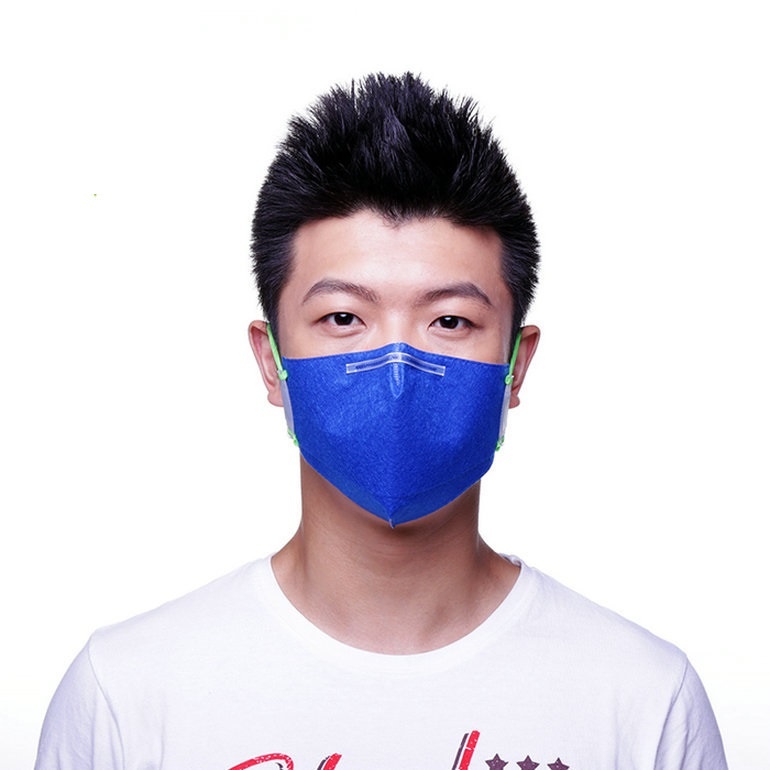face_mask: (284, 231, 507, 527)
